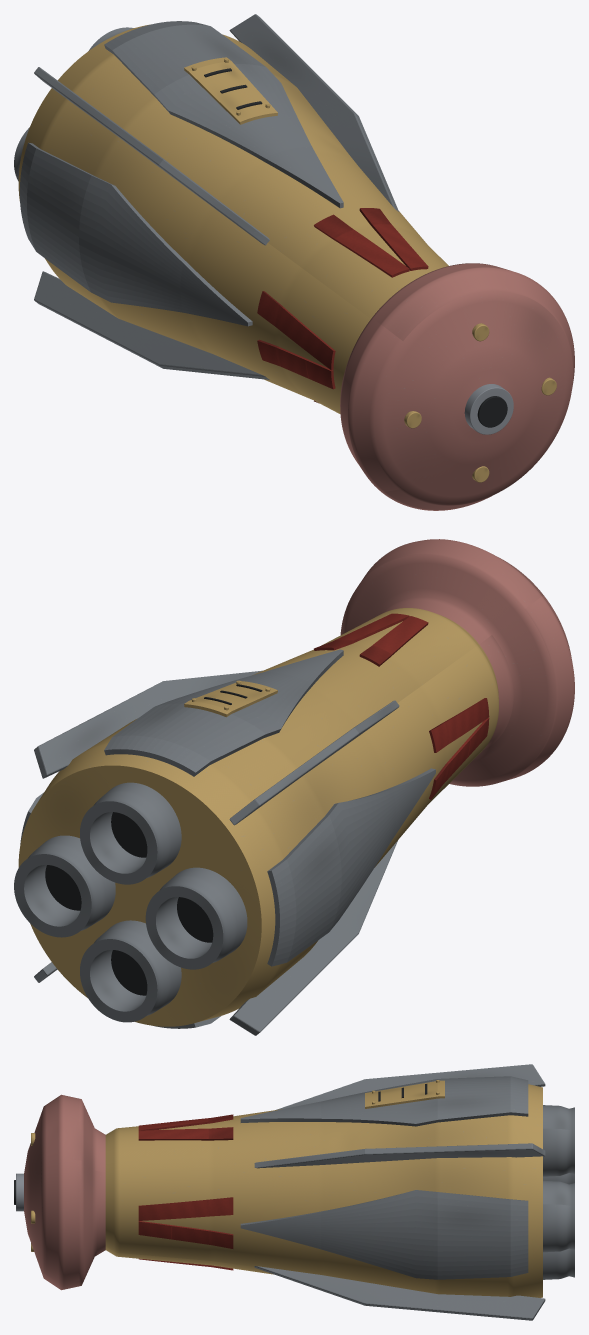
3 renders of one model, top to bottom at view 1: azimuth 30°, elevation 25°; view 2: azimuth 150°, elevation 25°; view 3: azimuth 270°, elevation 25°, orthographic. The views are drawn at different scales.
Parts seen in each view (by area): view 1: WidowMaker gold pressure hull, WidowMaker rose nose, WidowMaker grey cheek 2, WidowMaker grey cheek 1, WidowMaker diagonal strake 2, WidowMaker diagonal strake 0, WidowMaker service cover 1, WidowMaker diagonal strake 1, WidowMaker forward rose field 2 -1, WidowMaker forward rose field 1 1, WidowMaker forward rose field 2 1, WidowMaker forward rose field 1 -1 (+2 smaller); view 2: WidowMaker gold pressure hull, WidowMaker rose nose, WidowMaker grey cheek 2, WidowMaker grey cheek 1, WidowMaker aft duct housing 2, WidowMaker aft duct housing 1, WidowMaker aft duct housing 0, WidowMaker aft duct housing 3, WidowMaker diagonal strake 2, WidowMaker diagonal strake 0, WidowMaker diagonal strake 1, WidowMaker service cover 1 (+8 smaller); view 3: WidowMaker gold pressure hull, WidowMaker grey cheek 0, WidowMaker rose nose, WidowMaker grey cheek 1, WidowMaker diagonal strake 3, WidowMaker diagonal strake 0, WidowMaker diagonal strake 1, WidowMaker aft duct housing 0, WidowMaker aft duct housing 1, WidowMaker forward rose field 0 1, WidowMaker forward rose field 0 -1, WidowMaker service cover 1 (+3 smaller).
Boxes of the visible parts, left/top/right/bottom form: WidowMaker gold pressure hull: left=18, top=24, right=448, bottom=413; WidowMaker rose nose: left=340, top=263, right=574, bottom=510; WidowMaker grey cheek 2: left=19, top=142, right=252, bottom=326; WidowMaker grey cheek 1: left=104, top=21, right=343, bottom=208; WidowMaker diagonal strake 2: left=34, top=271, right=269, bottom=379; WidowMaker diagonal strake 0: left=229, top=14, right=398, bottom=211; WidowMaker service cover 1: left=184, top=57, right=277, bottom=124; WidowMaker diagonal strake 1: left=34, top=67, right=269, bottom=245; WidowMaker forward rose field 2 -1: left=257, top=291, right=335, bottom=370; WidowMaker forward rose field 1 1: left=314, top=214, right=409, bottom=277; WidowMaker forward rose field 2 1: left=257, top=339, right=335, bottom=389; WidowMaker forward rose field 1 -1: left=359, top=208, right=428, bottom=270; WidowMaker gold pressure hull: left=18, top=608, right=498, bottom=1026; WidowMaker rose nose: left=340, top=539, right=574, bottom=786; WidowMaker grey cheek 2: left=267, top=768, right=435, bottom=966; WidowMaker grey cheek 1: left=104, top=649, right=343, bottom=776; WidowMaker aft duct housing 2: left=145, top=867, right=247, bottom=969; WidowMaker aft duct housing 1: left=80, top=782, right=181, bottom=884; WidowMaker aft duct housing 0: left=14, top=835, right=115, bottom=937; WidowMaker aft duct housing 3: left=80, top=920, right=181, bottom=1022; WidowMaker diagonal strake 2: left=229, top=840, right=397, bottom=1035; WidowMaker diagonal strake 0: left=34, top=670, right=262, bottom=778; WidowMaker diagonal strake 1: left=229, top=700, right=399, bottom=825; WidowMaker service cover 1: left=184, top=681, right=277, bottom=717; WidowMaker gold pressure hull: left=105, top=1084, right=542, bottom=1297; WidowMaker grey cheek 0: left=240, top=1190, right=528, bottom=1279; WidowMaker rose nose: left=24, top=1094, right=105, bottom=1290; WidowMaker grey cheek 1: left=240, top=1076, right=528, bottom=1126; WidowMaker diagonal strake 3: left=254, top=1266, right=545, bottom=1320; WidowMaker diagonal strake 0: left=254, top=1143, right=545, bottom=1168; WidowMaker diagonal strake 1: left=276, top=1064, right=545, bottom=1109; WidowMaker aft duct housing 0: left=543, top=1180, right=574, bottom=1252; WidowMaker aft duct housing 1: left=543, top=1105, right=574, bottom=1176; WidowMaker forward rose field 0 1: left=138, top=1197, right=233, bottom=1220; WidowMaker forward rose field 0 -1: left=138, top=1221, right=233, bottom=1248; WidowMaker service cover 1: left=365, top=1080, right=444, bottom=1108.
Size of the model in its own units: 1.6 by 1.61 by 3.84.
Materials: 6 (4 with a texture image).
